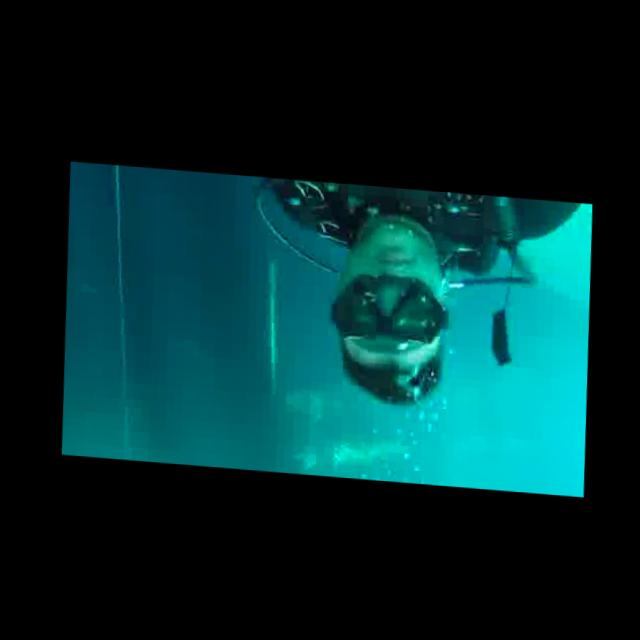human: (195, 171, 596, 421)
